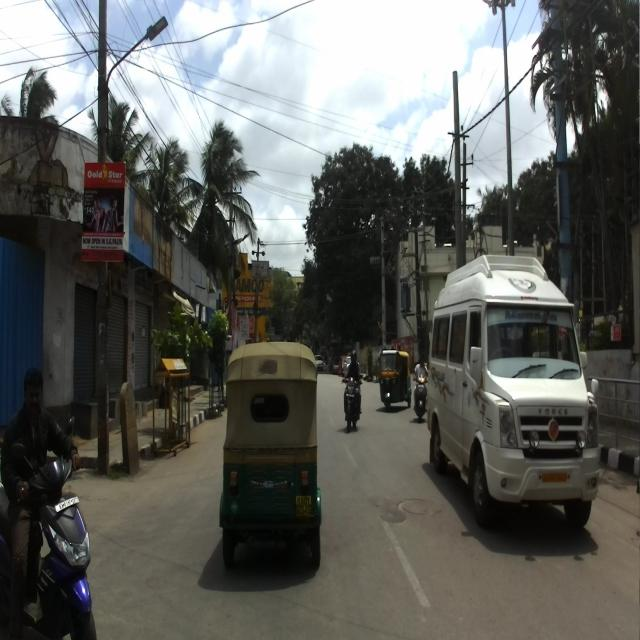autorickshaw: (219, 345, 323, 569)
mini-bus: (426, 254, 600, 529)
scooter: (0, 418, 96, 640)
